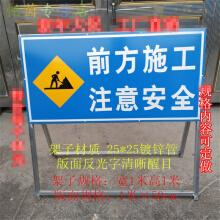sign: (18, 35, 202, 125)
